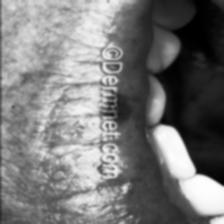Potentially Malignant Skin Tumors: (109, 87, 131, 125)
